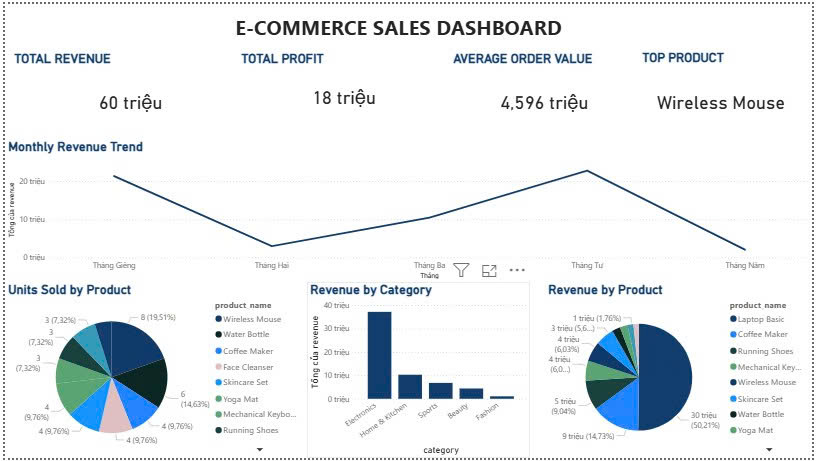

The dashboard page shown, as its layout file describes it:
{"tool":"powerbi","page":{"name":"Trang 1","canvas":[1280,720],"ordinal":0},"visuals":[{"type":"lineChart","title":"Monthly Revenue Trend","fields":{"Category":["Table1.order_date.Biến động.Phân cấp ngày tháng.Tháng"],"Y":["Sum(Table1.revenue)"]},"box":[0,213.6,1279.5,227.3],"z":0},{"type":"pieChart","title":"Units Sold by Product","fields":{"Category":["Table1.product_name"],"Y":["Sum(Table1.quantity)"]},"box":[0,441.3,479.4,279.4],"z":1000},{"type":"clusteredColumnChart","title":"Revenue by Category","fields":{"Category":["Table1.category"],"Y":["Sum(Table1.revenue)"]},"box":[479.4,441.3,354,279.4],"z":2000},{"type":"pieChart","title":"Revenue by Product","fields":{"Category":["Table1.product_name"],"Y":["Sum(Table1.revenue)"]},"box":[857.1,441.3,422.2,279.4],"z":3000},{"type":"card","title":"TOTAL REVENUE","fields":{"Values":["Sum(Table1.revenue)"]},"box":[9.1,75,379.5,138.6],"z":4000},{"type":"card","title":"TOTAL PROFIT","fields":{"Values":["Sum(Table1.profit)"]},"box":[369.8,74.6,336.5,122.2],"z":5000},{"type":"card","title":"TOP PRODUCT","fields":{"Values":["Min(Table1.product_name)"]},"box":[1006.3,73,260.3,139.7],"z":6000},{"type":"textbox","box":[279.4,9.5,690.5,65.1],"z":6001},{"type":"card","title":"AVERAGE ORDER VALUE","fields":{"Values":["Table1.Average Order Value"]},"box":[706.3,74.6,300,138.1],"z":6002}]}

Visuals, with their boxes in screenshot pixels (x1, y1, x2, y2), scaled from the page's 1280x720 canvas onto the 816x461 screenshot:
"Monthly Revenue Trend" lineChart: region(0, 137, 815, 282)
"Units Sold by Product" pieChart: region(0, 283, 306, 460)
"Revenue by Category" clusteredColumnChart: region(306, 283, 531, 460)
"Revenue by Product" pieChart: region(546, 283, 815, 460)
"TOTAL REVENUE" card: region(6, 48, 248, 137)
"TOTAL PROFIT" card: region(236, 48, 450, 126)
"TOP PRODUCT" card: region(642, 47, 807, 136)
textbox: region(178, 6, 618, 48)
"AVERAGE ORDER VALUE" card: region(450, 48, 642, 136)
